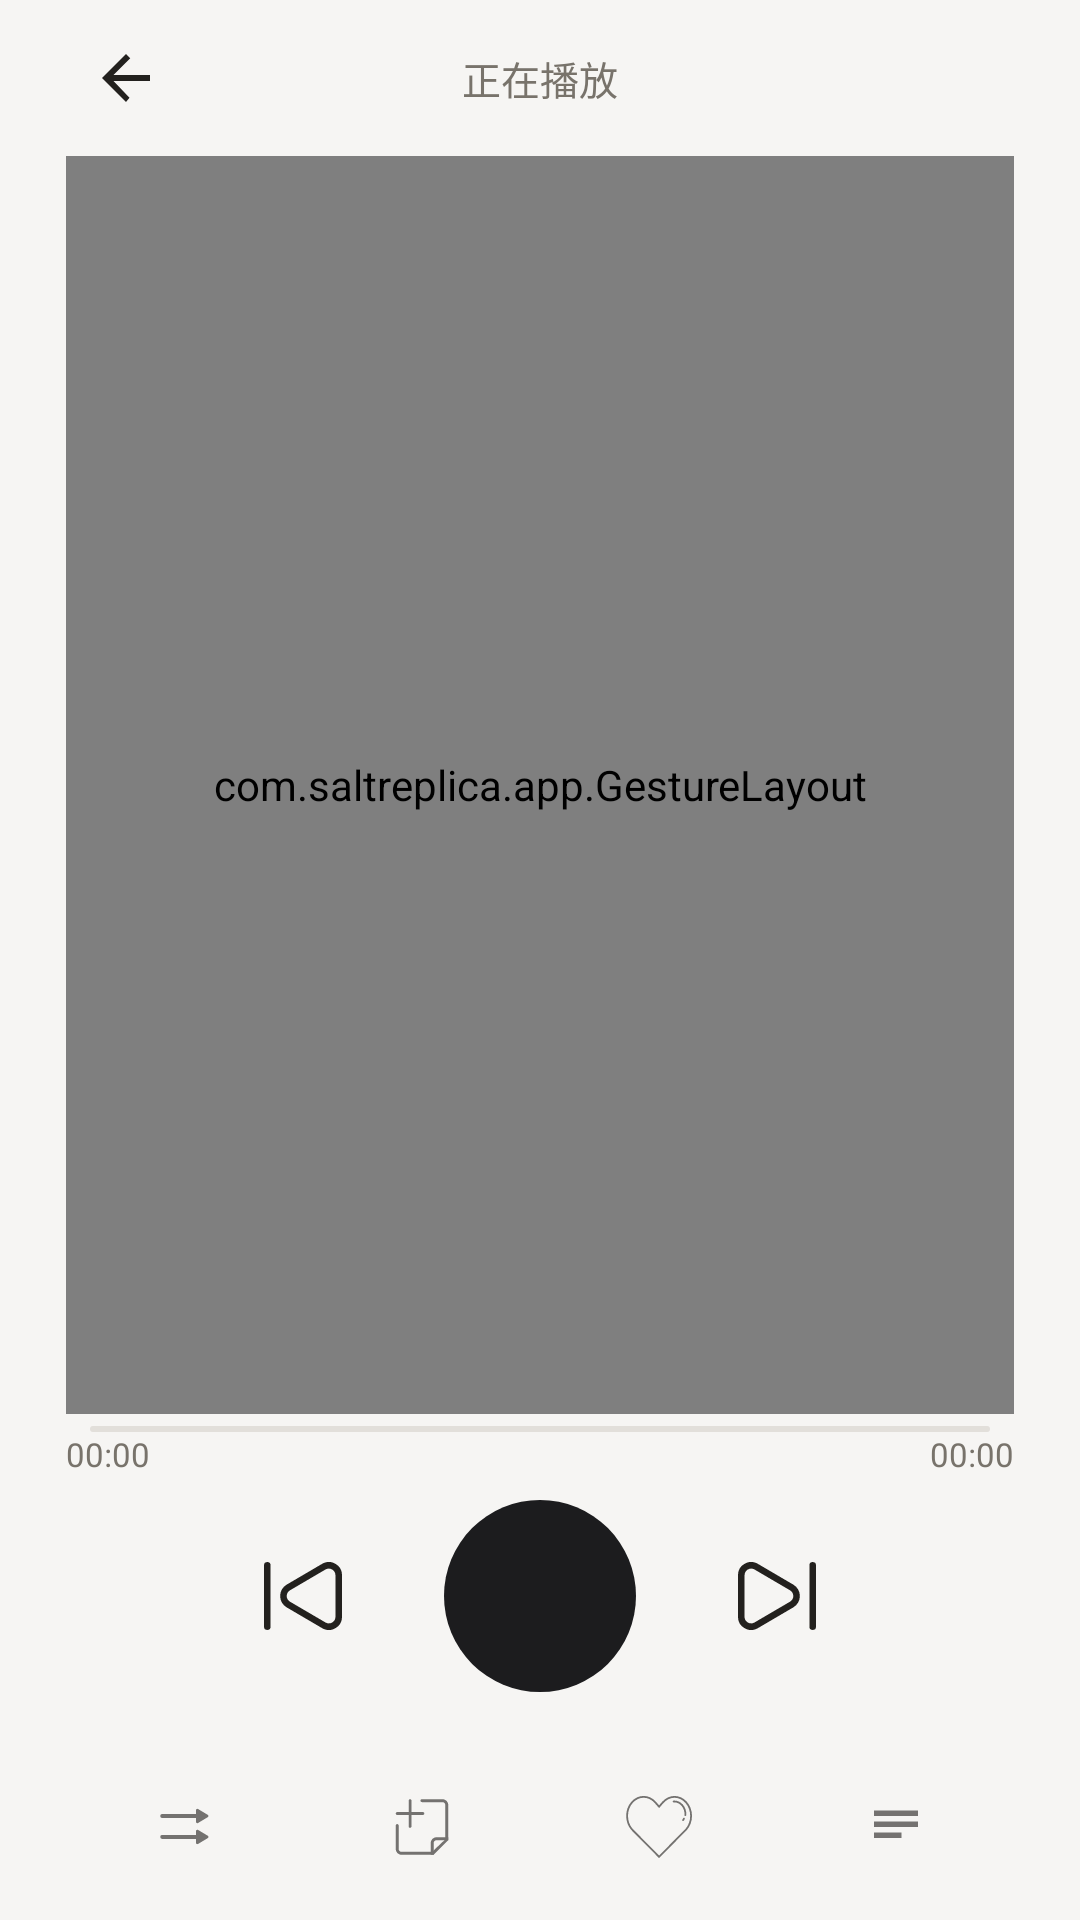

Icons on this 1080x1920 Android screen, each with its box as region(x1, y1, x2, y2):
上一首: region(264, 1562, 342, 1630)
下一首: region(738, 1562, 816, 1630)
播放列表: region(874, 1810, 918, 1838)
播放模式: region(160, 1809, 209, 1844)
收藏: region(626, 1796, 692, 1858)
添加到歌单: region(395, 1799, 449, 1855)
返回: region(102, 54, 150, 102)
